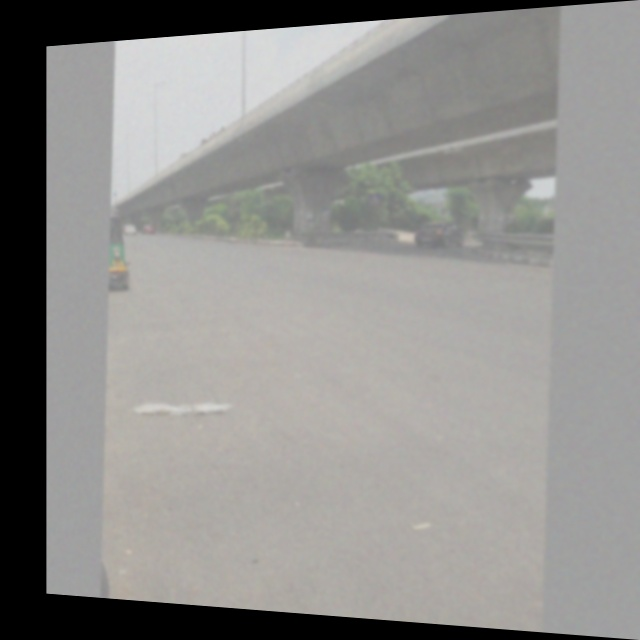Pedestrian_Crossing: (364, 188, 380, 206)
